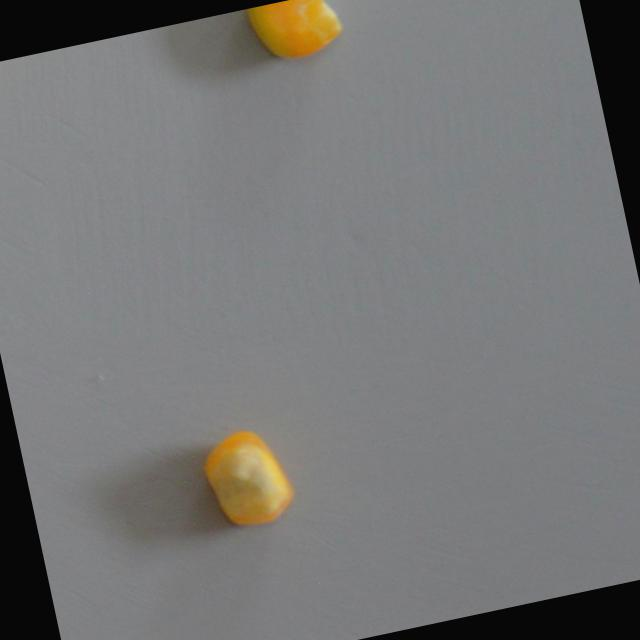no_canjicado: (192, 418, 302, 537)
pelicula: (245, 0, 345, 69)
